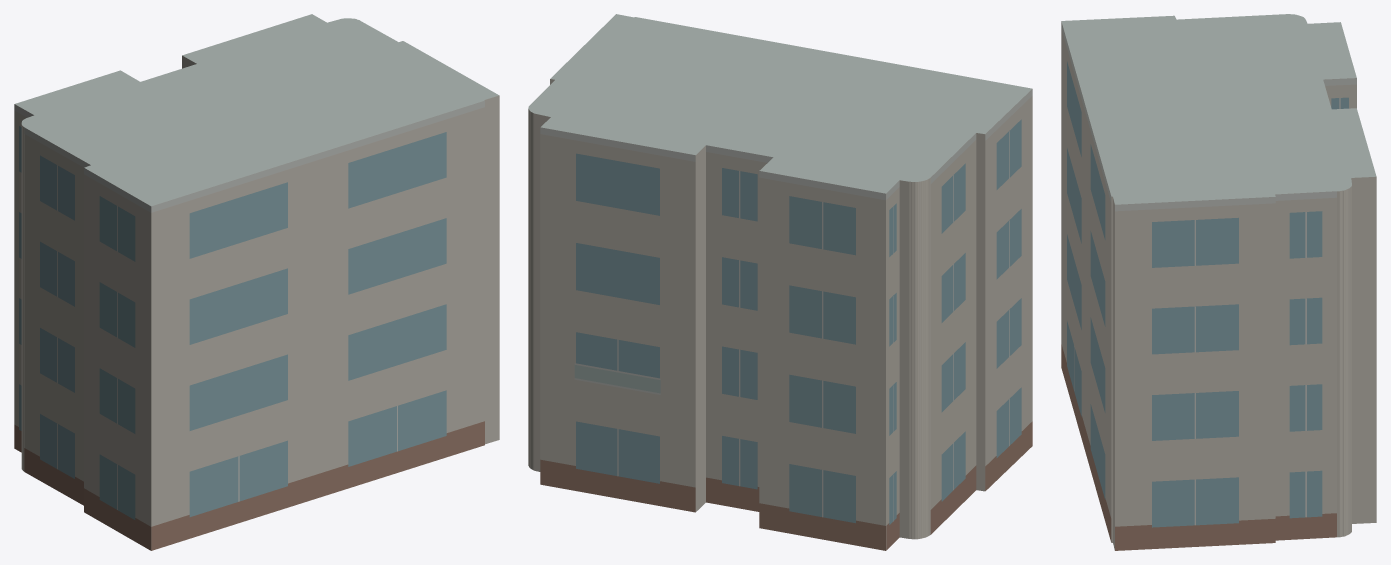
File: survey-upis-32671056.glb
3 renders of one model, left to right at view 1: azimuth 30°, elevation 25°; view 2: azimuth 150°, elevation 25°; view 3: azimuth 270°, elevation 25°, orthographic. The views are drawn at different scales.
Parts seen in each view (by area): view 1: survey-upis-32671056.tmp; view 2: survey-upis-32671056.tmp; view 3: survey-upis-32671056.tmp.
Boxes of the visible parts, x1=… form: survey-upis-32671056.tmp: x1=14, y1=14, x2=499, y2=550; survey-upis-32671056.tmp: x1=528, y1=14, x2=1032, y2=550; survey-upis-32671056.tmp: x1=1061, y1=14, x2=1376, y2=550.
Size of the model in its own units: 15.29 by 12.93 by 10.69.
